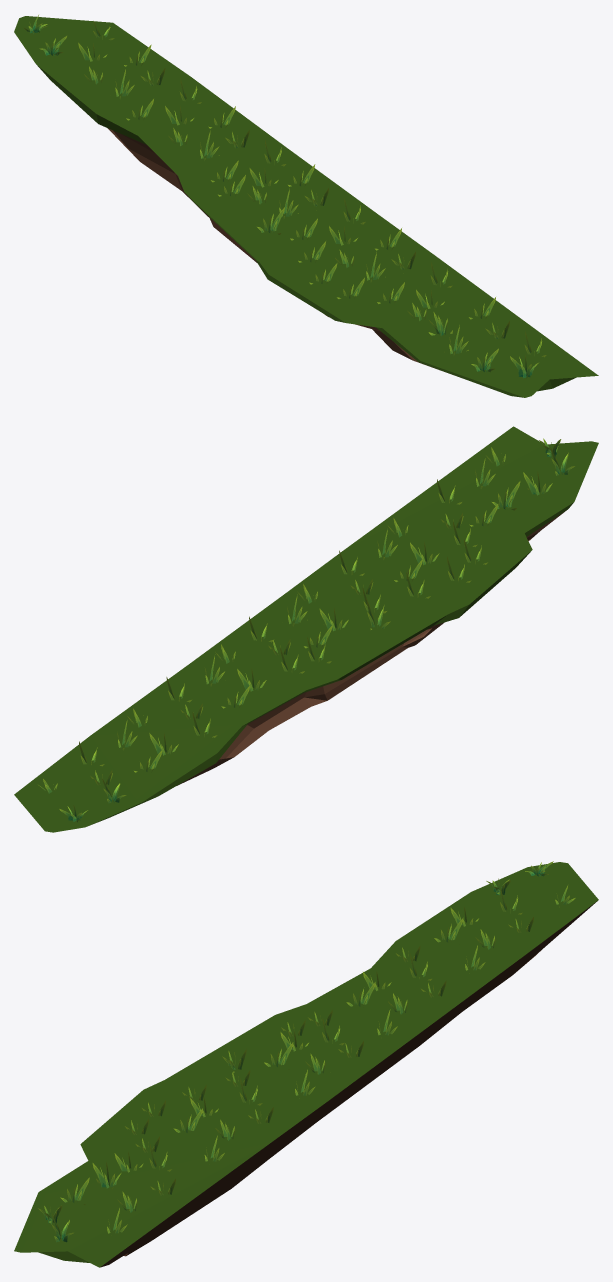
File: piso.fbx
3 renders of one model, top to bottom at view 1: azimuth 30°, elevation 25°; view 2: azimuth 150°, elevation 25°; view 3: azimuth 330°, elevation 25°, orthographic. The views are drawn at different scales.
Visible parts, largest first — view 1: ground; view 2: ground; view 3: ground.
Boxes of the visible parts, left/top/right/bottom form: ground: left=14, top=16, right=598, bottom=397; ground: left=14, top=426, right=598, bottom=832; ground: left=14, top=862, right=598, bottom=1267.
Bounding box in the file's own units: 115 × 43.7 × 711.
46 materials, 46 textured.
